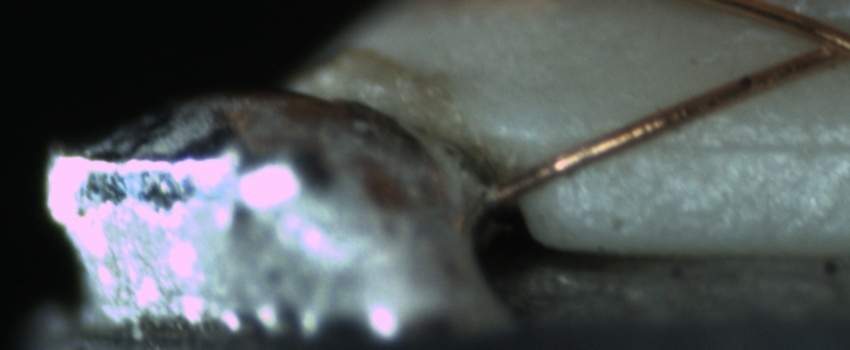CL: (793, 17, 850, 72)
DL: (619, 110, 846, 180)
